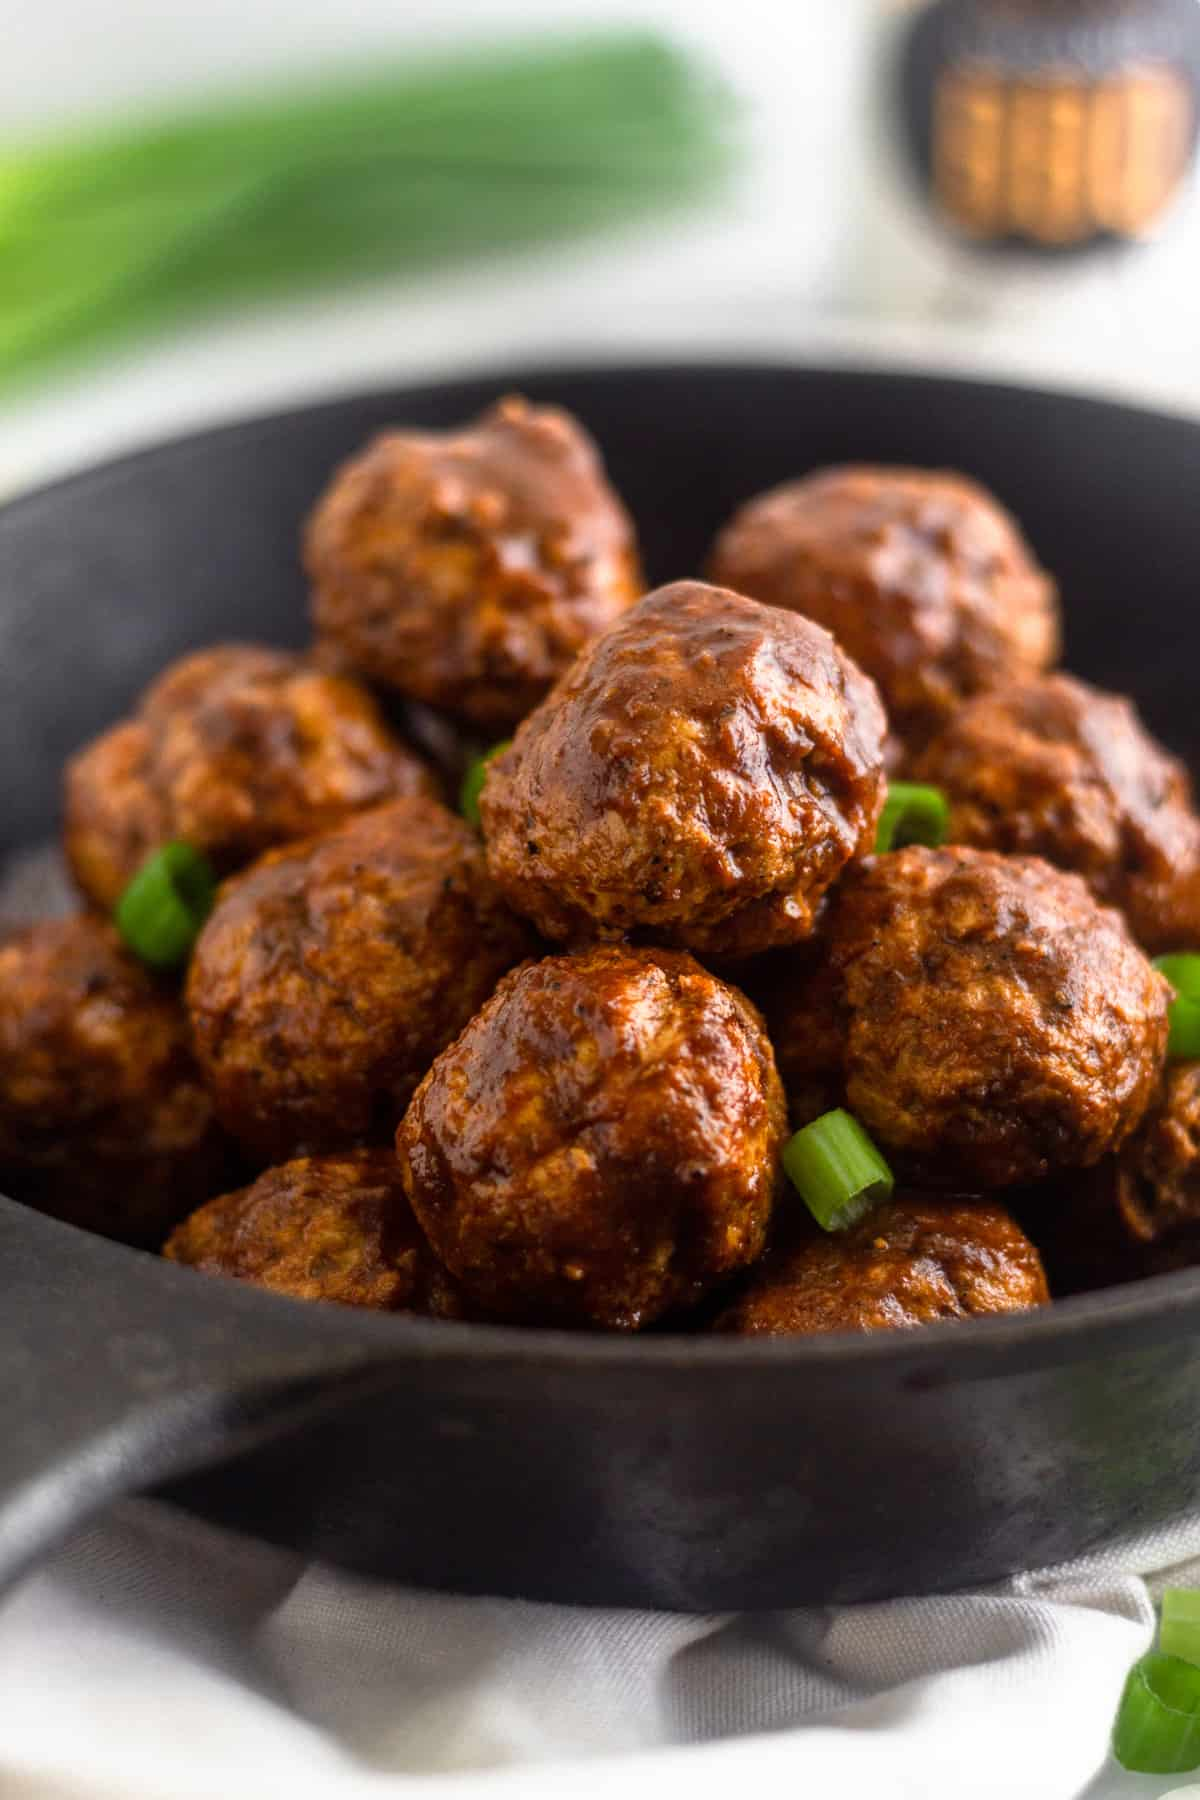meatballs: (490, 577, 844, 932), (399, 948, 770, 1270), (824, 849, 1158, 1171), (200, 800, 463, 1120), (328, 450, 633, 694), (92, 640, 384, 876), (924, 655, 1189, 899)
